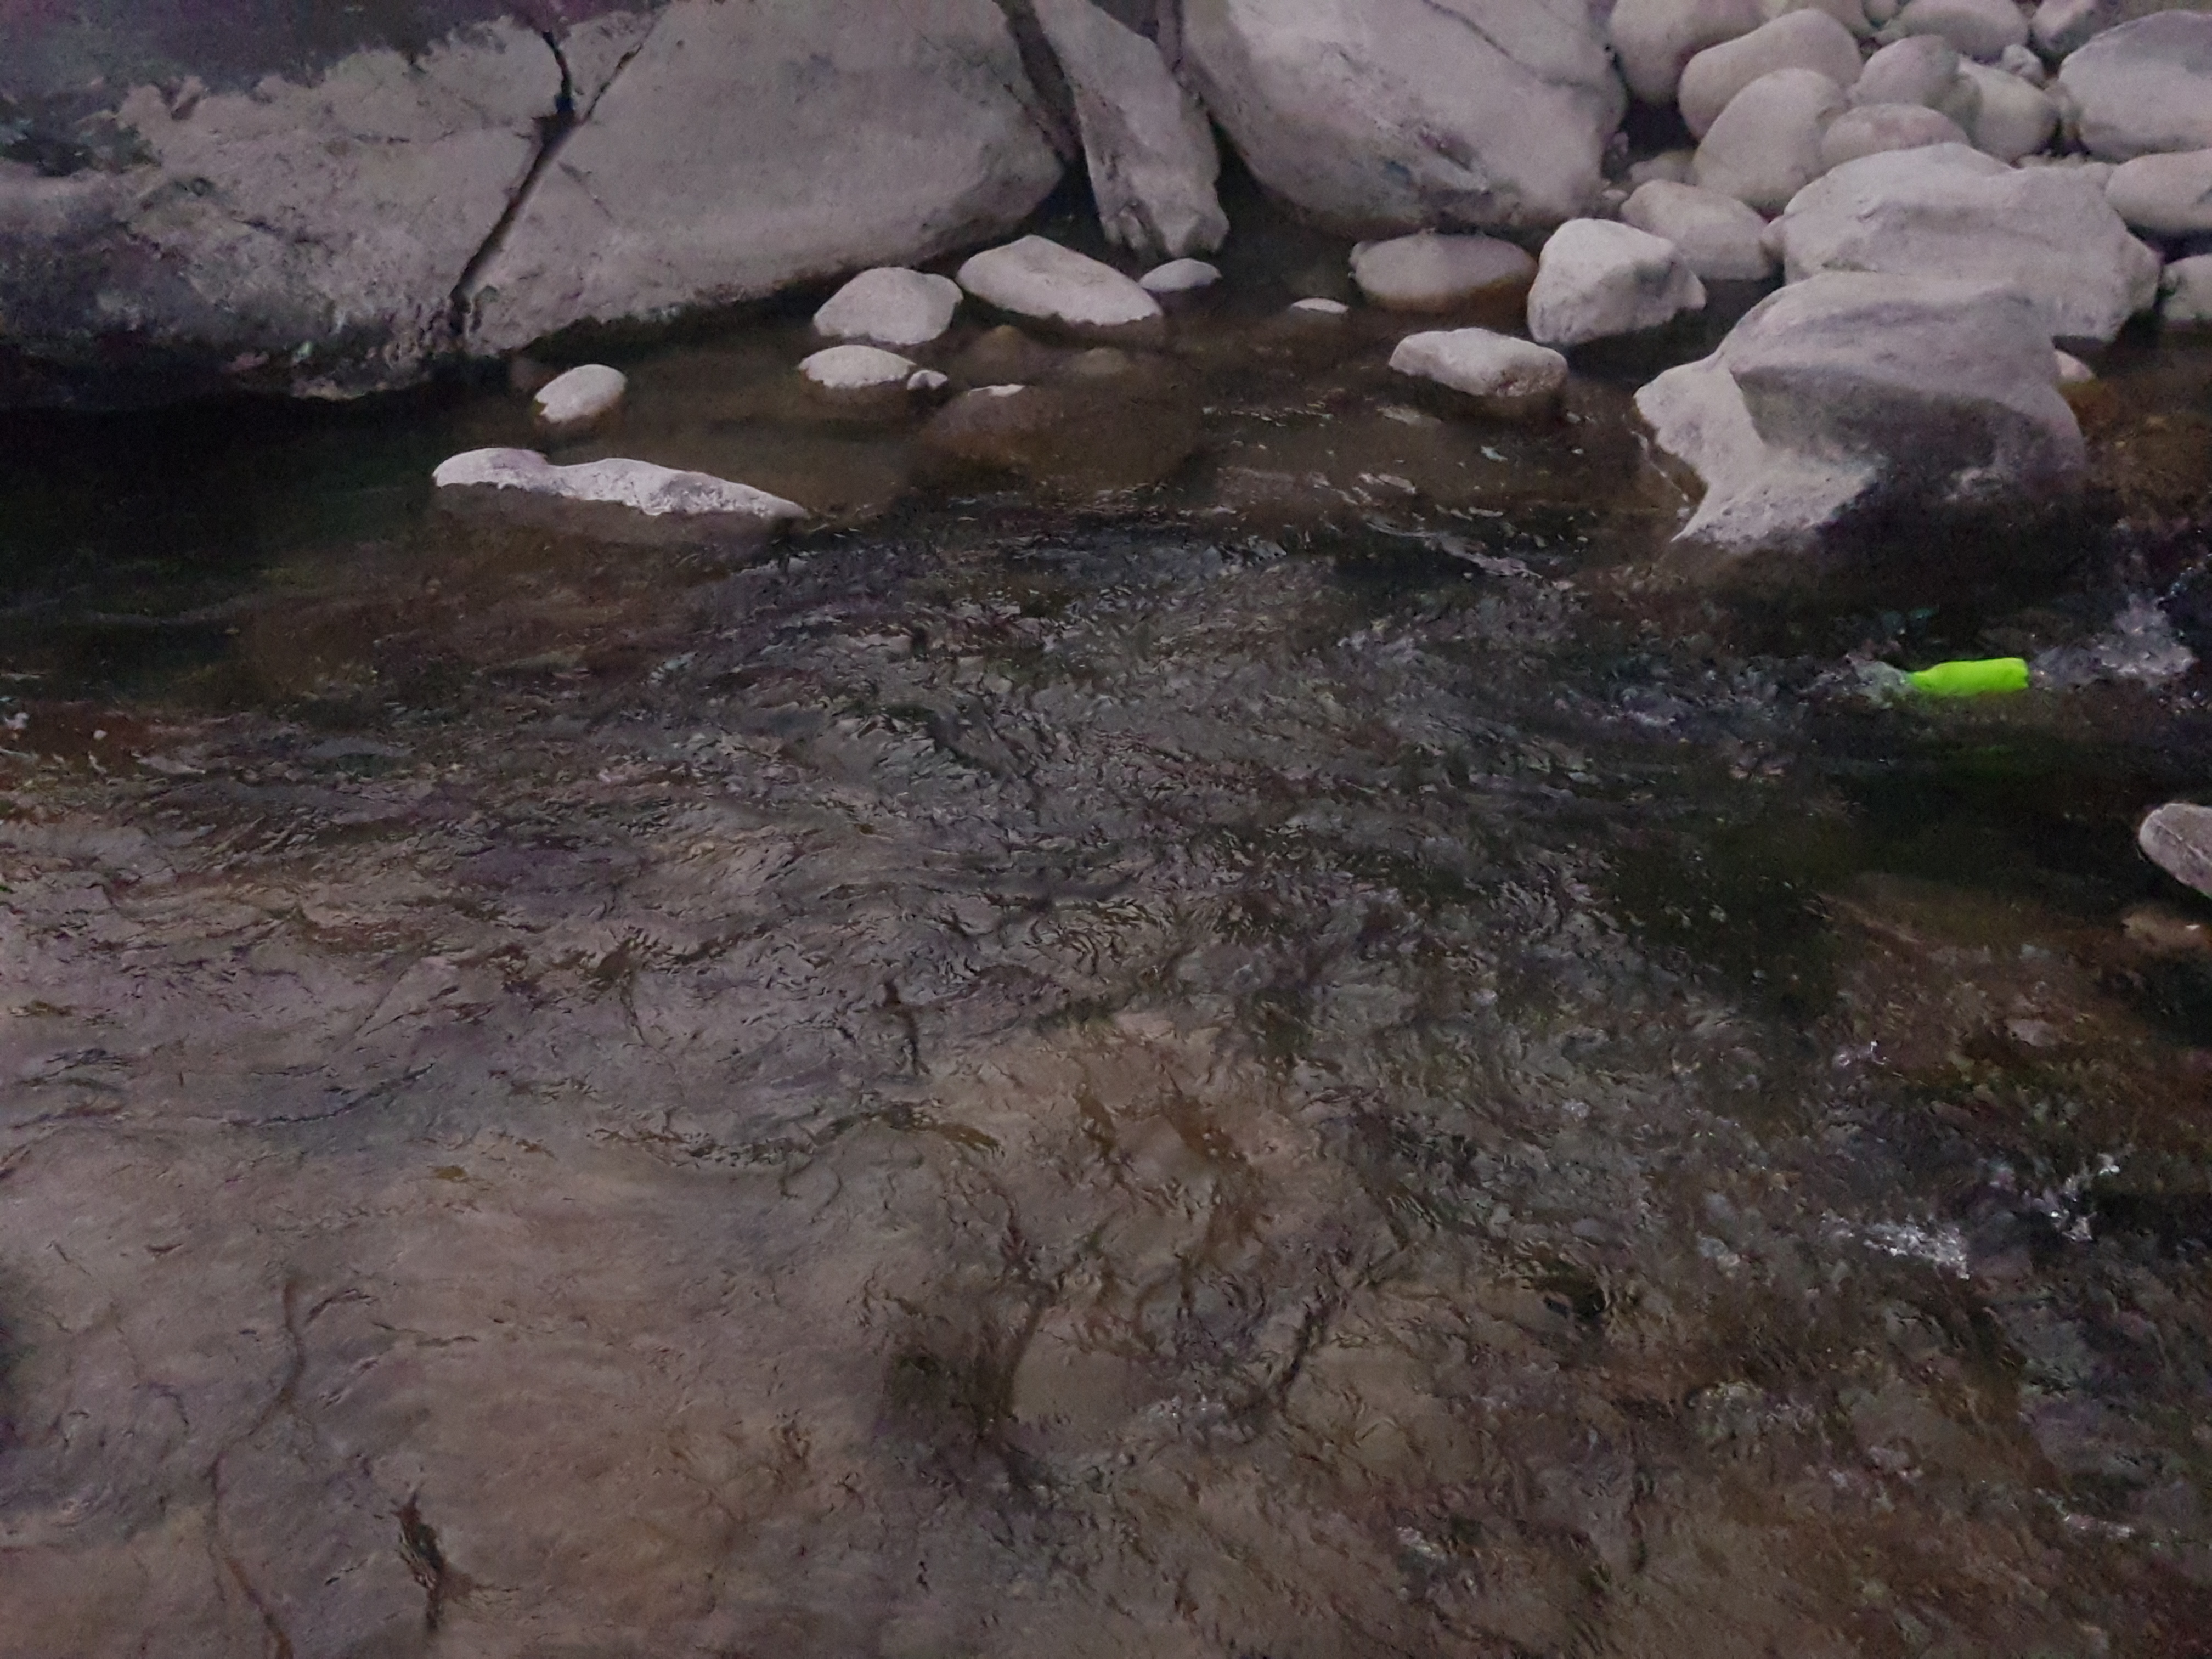Plastic Bottle: (1898, 653, 2027, 701)
